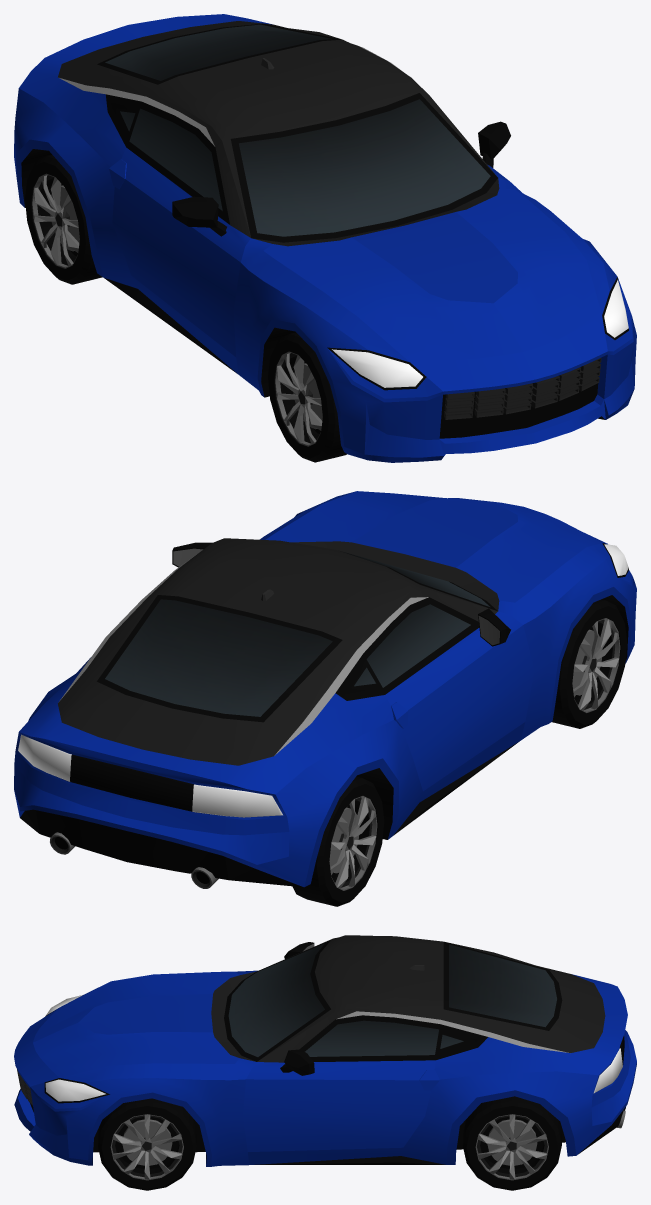
3 renders of one model, top to bottom at view 1: azimuth 30°, elevation 25°; view 2: azimuth 150°, elevation 25°; view 3: azimuth 270°, elevation 25°, orthographic. The views are drawn at different scales.
Parts seen in each view (by area): view 1: Body, FR, RR; view 2: Body, FR, RR; view 3: Body, RL, FL.
Part boxes in pixels (box(x1,y1,x2,y2)): Body: box(14, 14, 636, 462); FR: box(268, 332, 346, 462); RR: box(25, 155, 102, 284); Body: box(14, 491, 636, 888); FR: box(552, 599, 627, 728); RR: box(292, 776, 384, 906); Body: box(14, 935, 636, 1166); RL: box(462, 1096, 561, 1190); FL: box(97, 1098, 196, 1190).
Size of the model in its own units: 2.04 by 1.35 by 4.41.
Materials: 2 (2 with a texture image).
